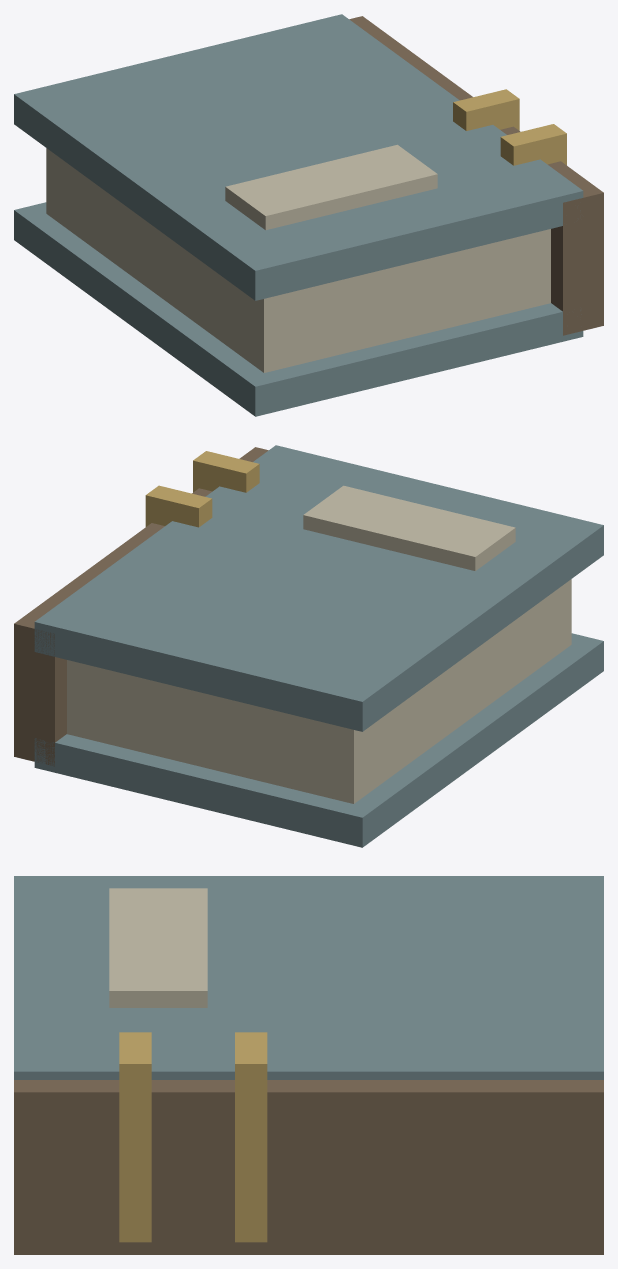
File: spread-portable-codex12.fbx
3 renders of one model, top to bottom at view 1: azimuth 30°, elevation 25°; view 2: azimuth 150°, elevation 25°; view 3: azimuth 270°, elevation 25°, orthographic. The views are drawn at different scales.
Visible parts, largest first — view 1: spread-portable-codex12__Geometry; view 2: spread-portable-codex12__Geometry; view 3: spread-portable-codex12__Geometry.
Boxes of the visible parts, x1,y1,x2,y2 form: spread-portable-codex12__Geometry: [14, 14, 603, 416]; spread-portable-codex12__Geometry: [14, 445, 603, 847]; spread-portable-codex12__Geometry: [14, 876, 603, 1254].
Size of the model in its own units: 0.4325 by 0.1925 by 0.51.
